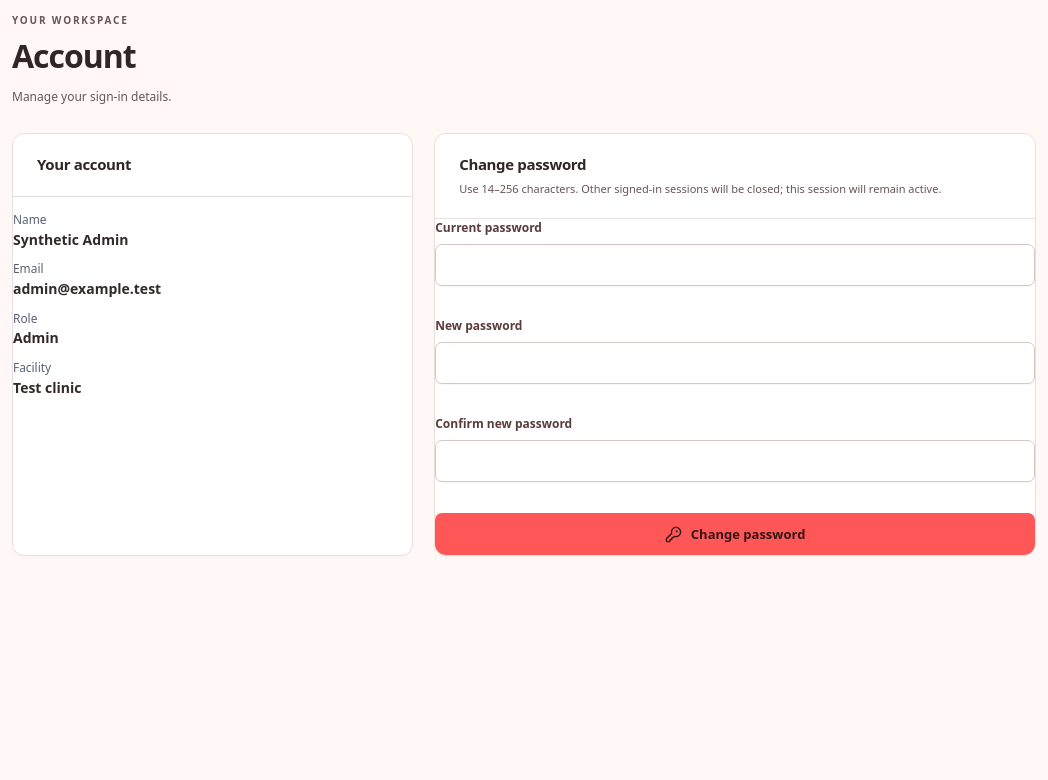
it: clears successful password fields and explains other-session revocation
Type "current-test-password" into the password field labelled "Current password" at (735, 266), box [435,244,1035,286]
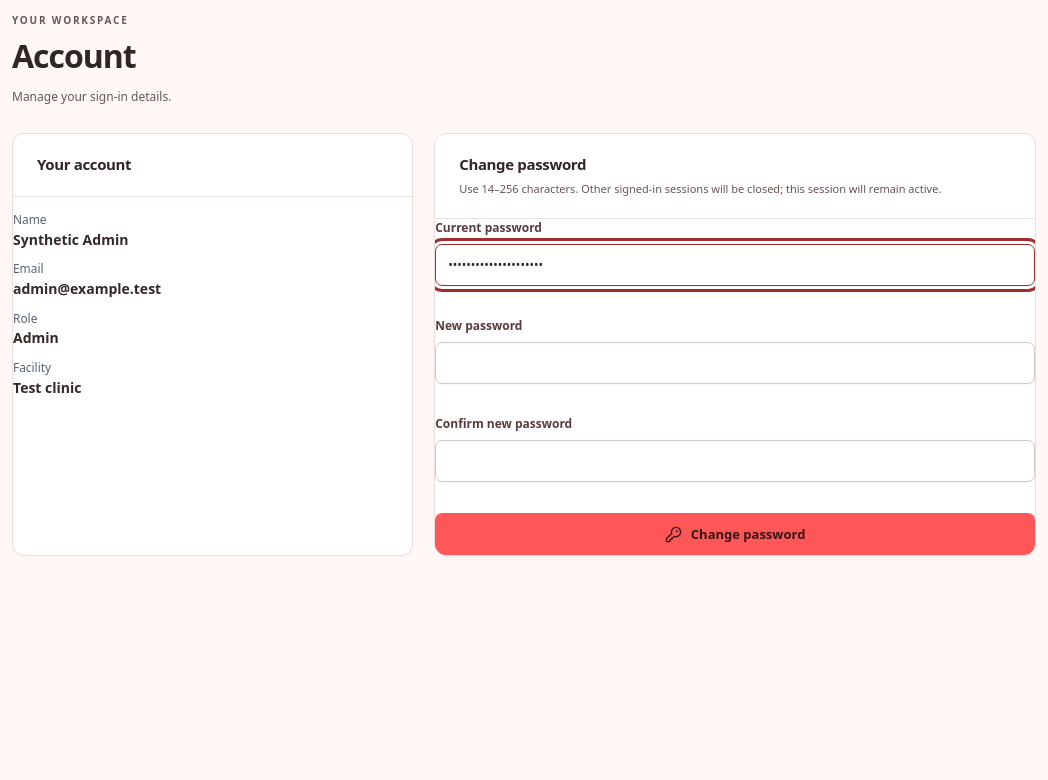
Type "replacement-test-password" into the password field labelled "New password" at (735, 364), box [435,342,1035,384]
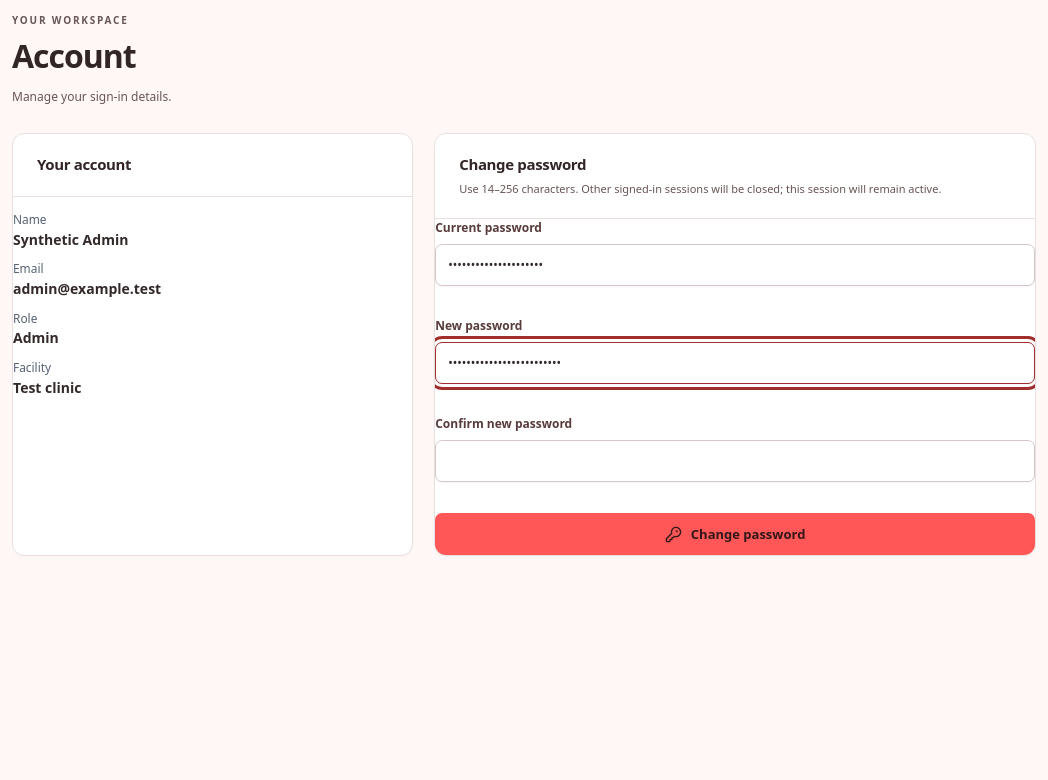
Type "replacement-test-password" into the password field labelled "Confirm new password" at (735, 462), box [435,440,1035,482]
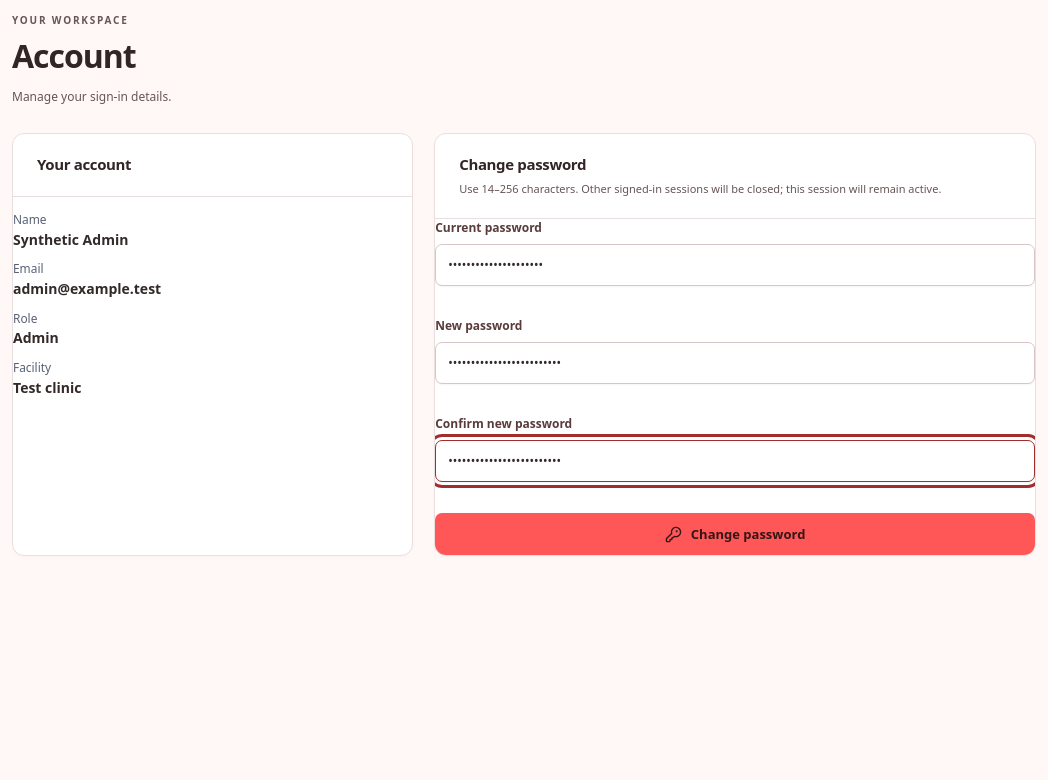
Click the button "Change password" at (735, 534), box [435,514,1035,556]
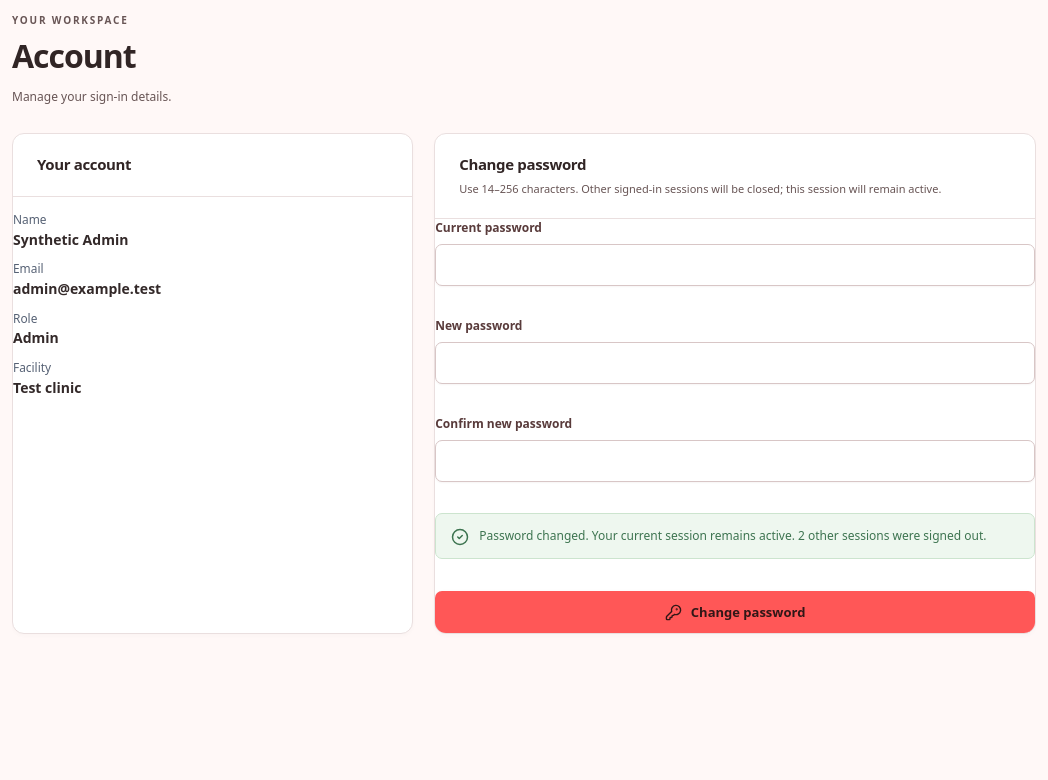
expect the password field labelled "Current password" is empty: met, box [435,244,1035,286]
expect the message shows "2 other sessions were signed out": met, box [479,528,986,544]
